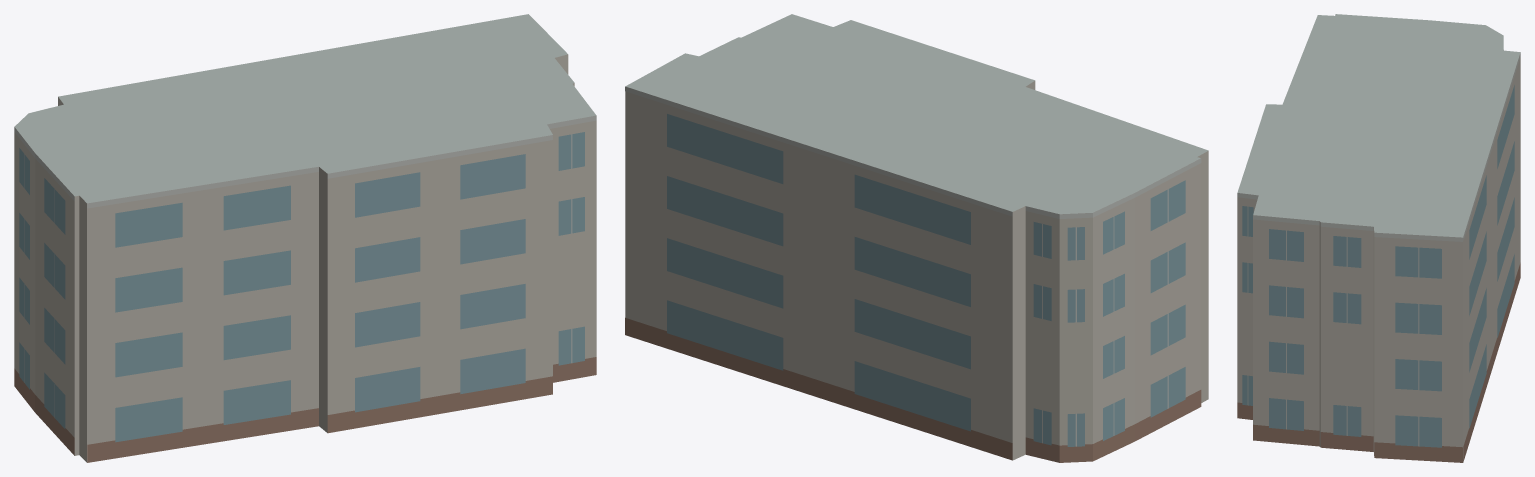
Rendered from survey-upis-33029455.glb.
3 views of the same model, side by side, from view 1: azimuth 30°, elevation 25°; view 2: azimuth 150°, elevation 25°; view 3: azimuth 270°, elevation 25° (orthographic). The views are drawn at different scales.
Parts seen in each view (by area): view 1: survey-upis-33029455.tmp; view 2: survey-upis-33029455.tmp; view 3: survey-upis-33029455.tmp.
Part boxes in pixels (left/top/right/bottom): survey-upis-33029455.tmp: left=14, top=14, right=596, bottom=462; survey-upis-33029455.tmp: left=625, top=14, right=1208, bottom=462; survey-upis-33029455.tmp: left=1237, top=14, right=1520, bottom=462.
Size of the model in its own units: 26.6 by 12.5 by 14.25.
